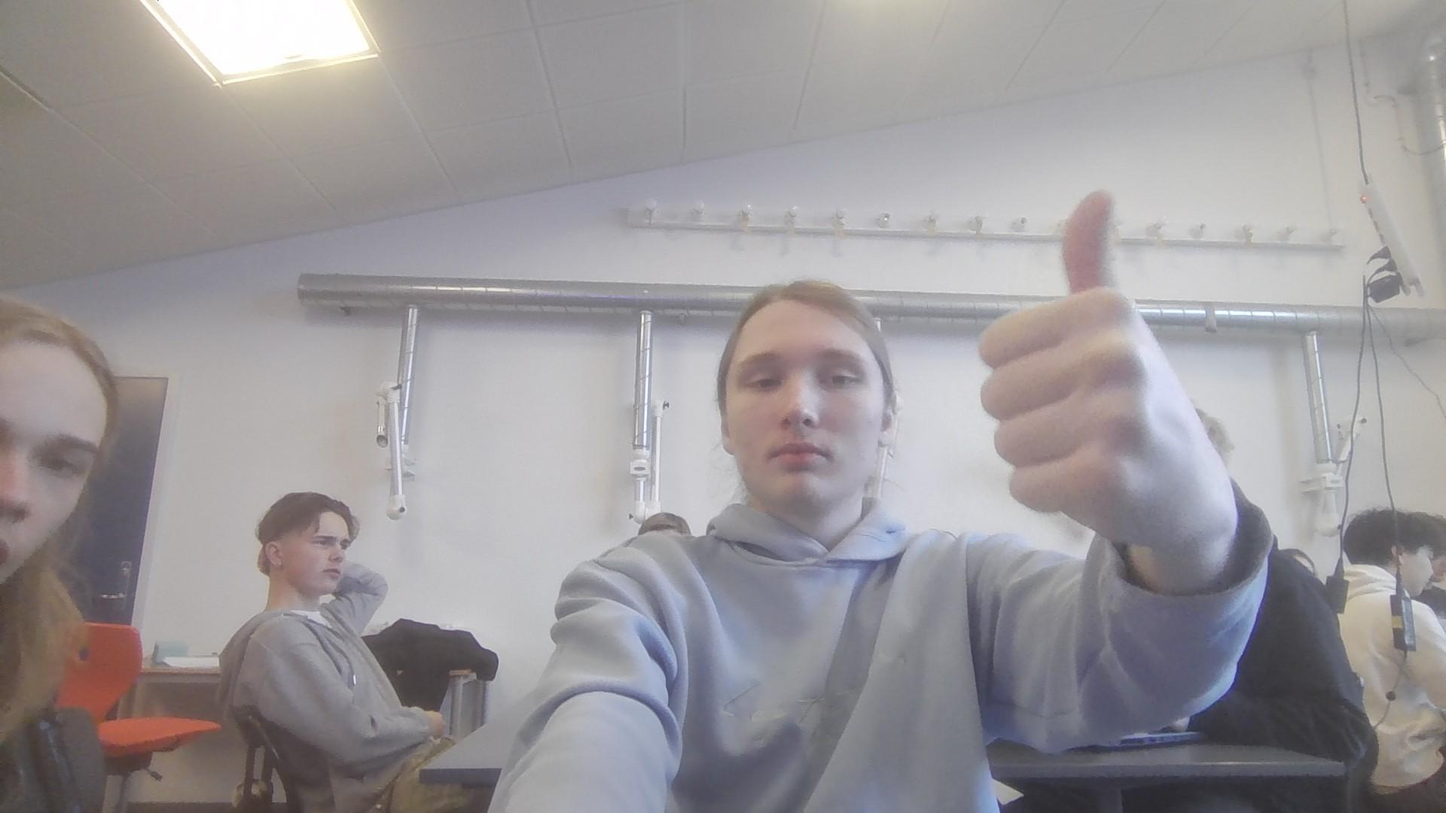thumbs up: (983, 185, 1228, 557)
